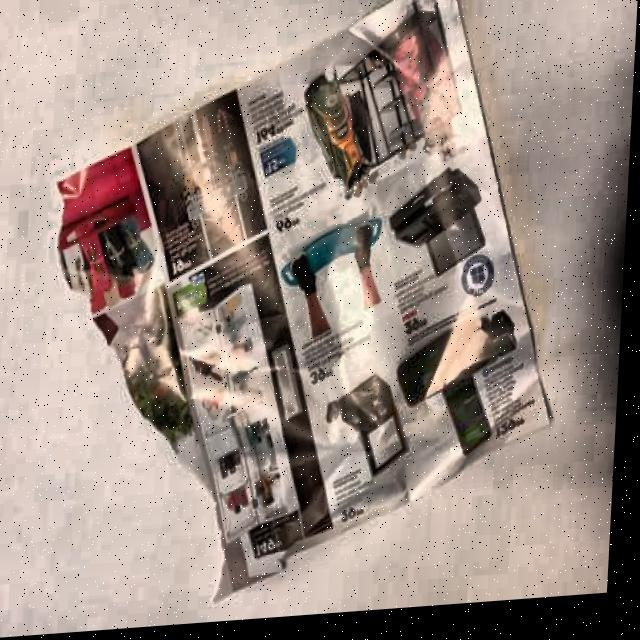paper: (33, 0, 575, 619)
